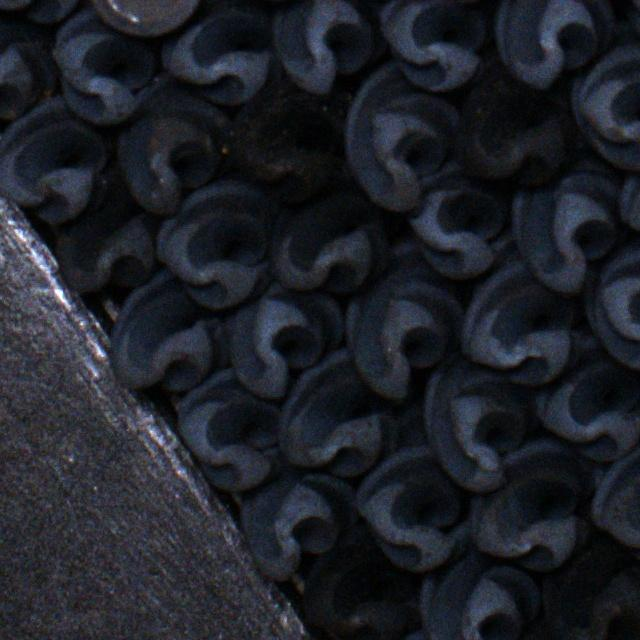tool_b: (345, 235, 461, 401), (274, 347, 420, 477), (460, 227, 574, 386), (469, 433, 592, 573), (344, 61, 461, 208), (155, 177, 287, 306), (511, 154, 624, 291), (109, 268, 232, 393), (356, 440, 469, 572), (424, 347, 528, 489), (0, 96, 114, 223), (229, 83, 349, 201), (115, 93, 228, 216), (535, 330, 640, 461), (238, 470, 360, 582), (229, 280, 344, 398), (267, 188, 395, 294), (177, 366, 285, 489), (459, 76, 572, 191), (160, 0, 282, 104), (51, 6, 155, 126), (300, 541, 416, 640), (55, 185, 159, 291), (493, 0, 612, 91), (418, 550, 538, 640), (570, 20, 640, 172), (408, 171, 508, 276), (539, 538, 640, 640), (271, 0, 378, 95), (378, 0, 483, 92), (582, 227, 640, 371), (592, 434, 640, 567), (0, 22, 56, 127)
